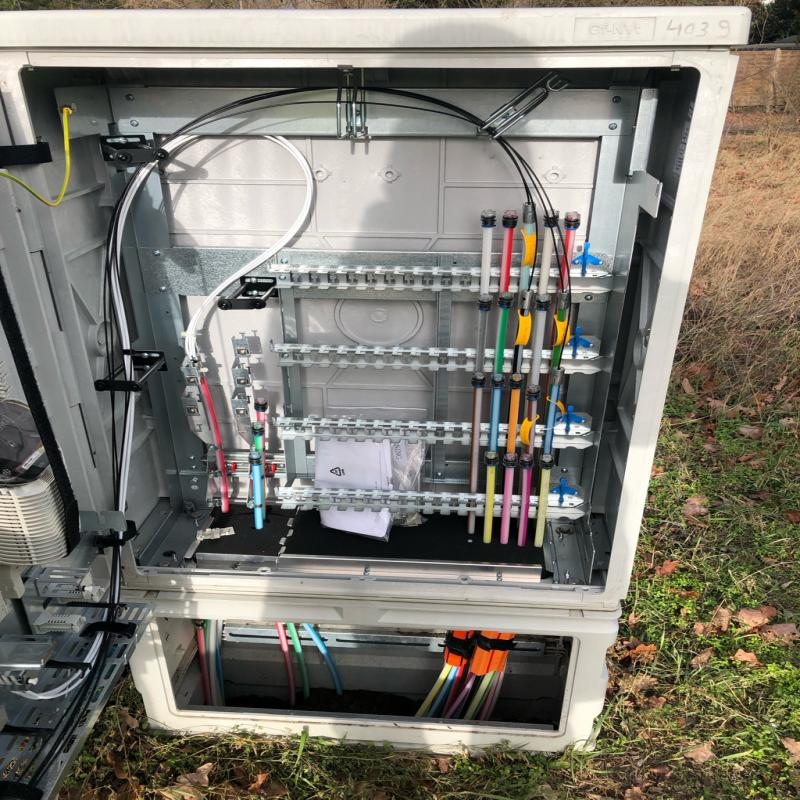NT-Gehause: (0, 13, 734, 753)
